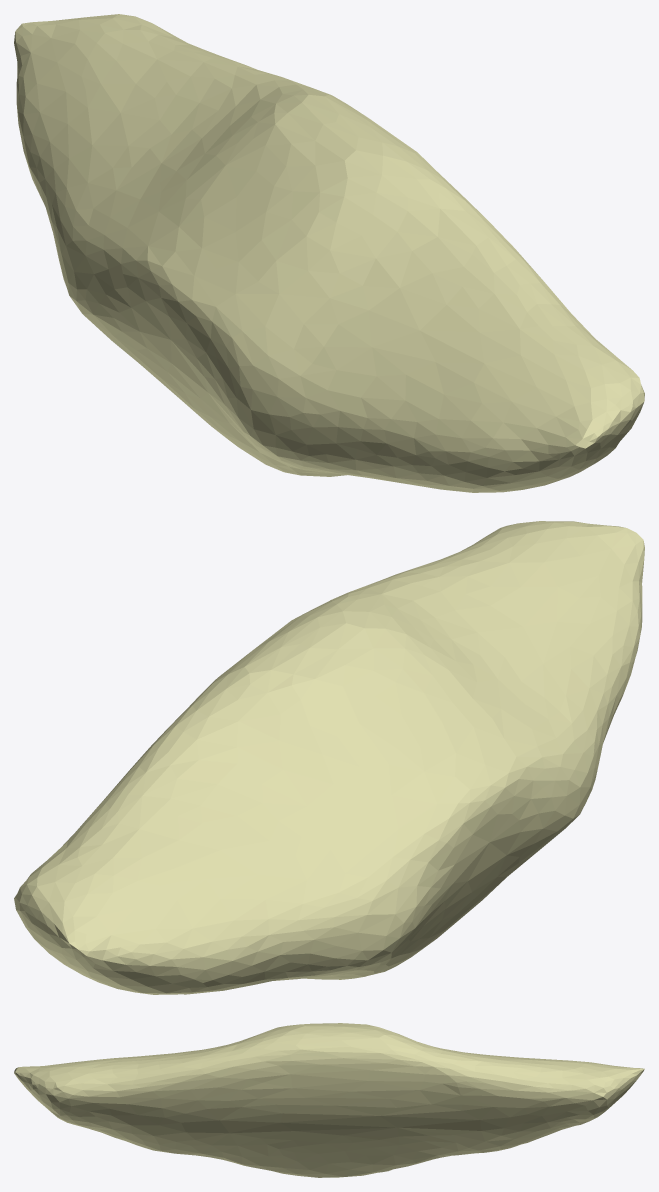
3 views of the same model, one above another, from view 1: azimuth 30°, elevation 25°; view 2: azimuth 150°, elevation 25°; view 3: azimuth 270°, elevation 25° (orthographic). The views are drawn at different scales.
Parts seen in each view (by area): view 1: 968.obj; view 2: 968.obj; view 3: 968.obj.
Part boxes in pixels (<box>): 968.obj: <box>14,14,644,492</box>; 968.obj: <box>14,521,644,994</box>; 968.obj: <box>14,1023,644,1177</box>.
Size of the model in its own units: 952 by 1141 by 3849.
